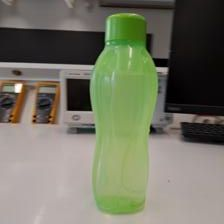bottle: (86, 13, 161, 216)
